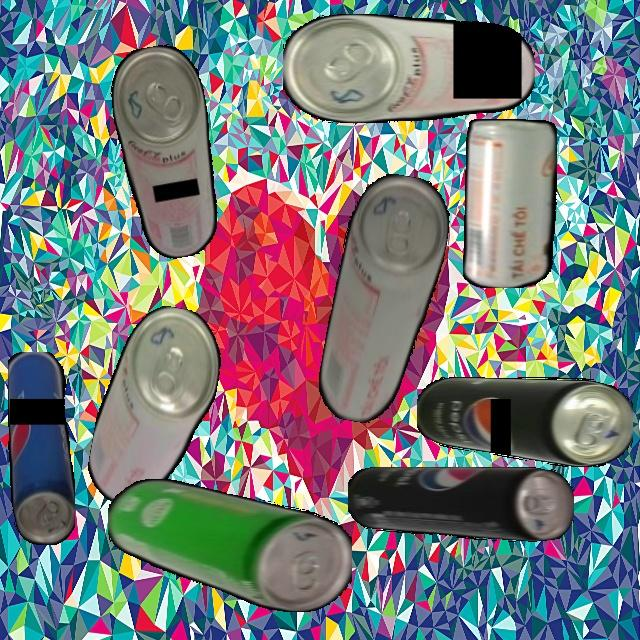debris: (313, 168, 456, 431), (107, 479, 352, 612), (83, 298, 229, 515), (103, 40, 231, 264), (283, 13, 535, 123), (416, 377, 633, 467), (347, 467, 574, 542), (463, 118, 557, 288), (7, 351, 75, 545)
